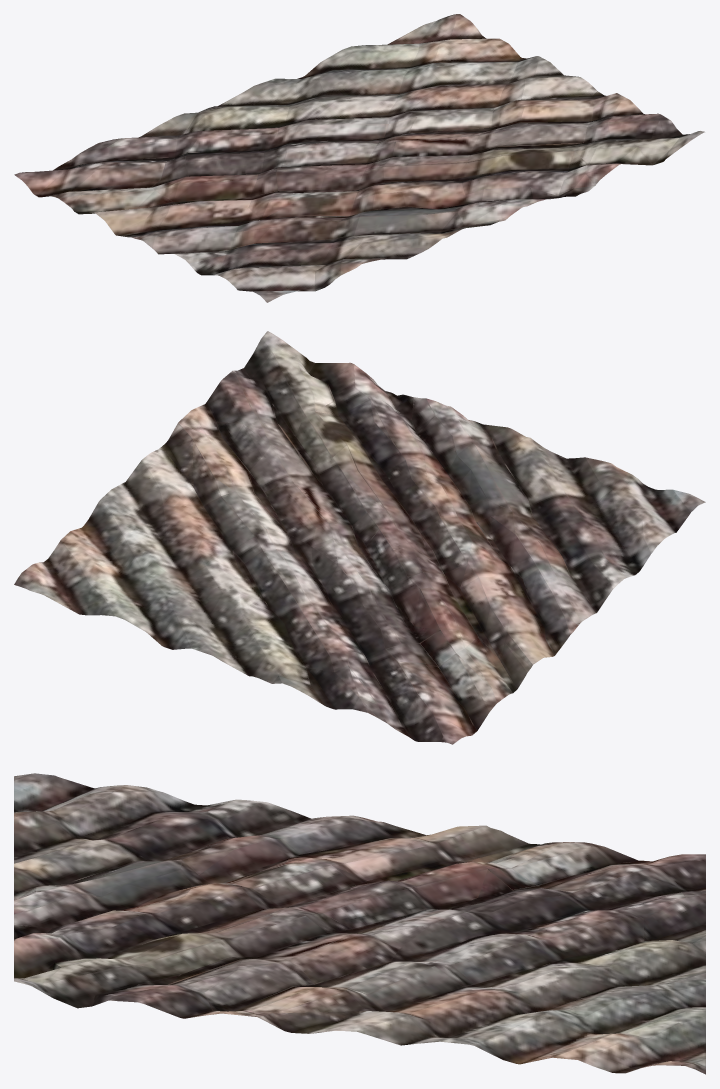
3 views of the same model, one above another, from view 1: azimuth 30°, elevation 25°; view 2: azimuth 150°, elevation 25°; view 3: azimuth 270°, elevation 25° (orthographic). The views are drawn at different scales.
Bounding box in the file's own units: 1.67 × 0.4627 × 1.67.
Materials: 3 (3 with a texture image).
